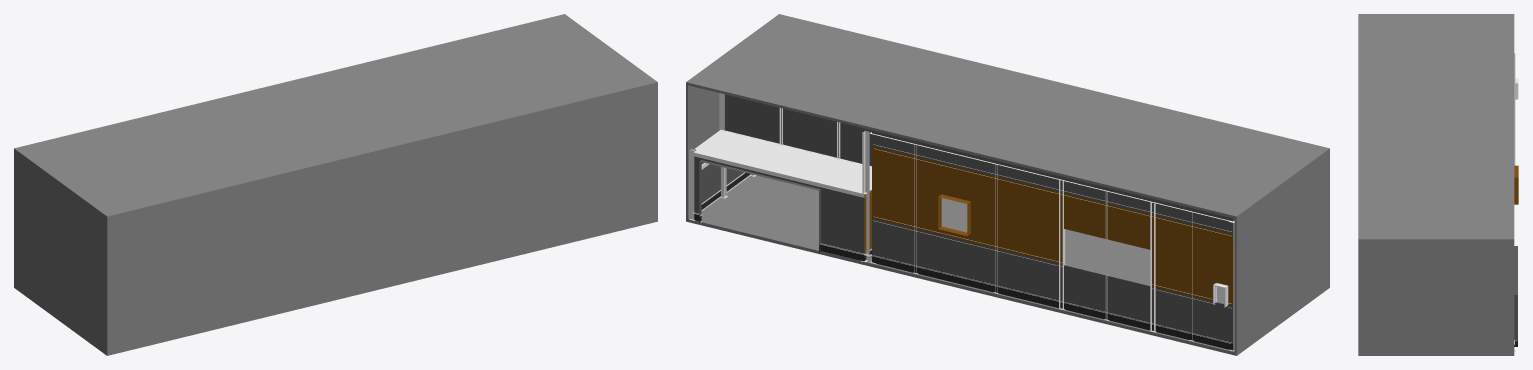
File: SM_H_Building_Tide_Dock_10_ATLAS.fbx
The picture shows the model from 3 angles, left to right: view 1: azimuth 30°, elevation 25°; view 2: azimuth 150°, elevation 25°; view 3: azimuth 270°, elevation 25°; orthographic projection. The views are drawn at different scales.
Parts seen in each view (by area): view 1: SM_H_Building_Tide_Dock_10_ATLAS; view 2: SM_H_Building_Tide_Dock_10_ATLAS; view 3: SM_H_Building_Tide_Dock_10_ATLAS.
Boxes of the visible parts, left/top/right/bottom form: SM_H_Building_Tide_Dock_10_ATLAS: left=14, top=14, right=657, bottom=355; SM_H_Building_Tide_Dock_10_ATLAS: left=686, top=14, right=1329, bottom=355; SM_H_Building_Tide_Dock_10_ATLAS: left=1358, top=14, right=1518, bottom=355.
Bounding box in the file's own units: 7593 × 2285 × 1836.
